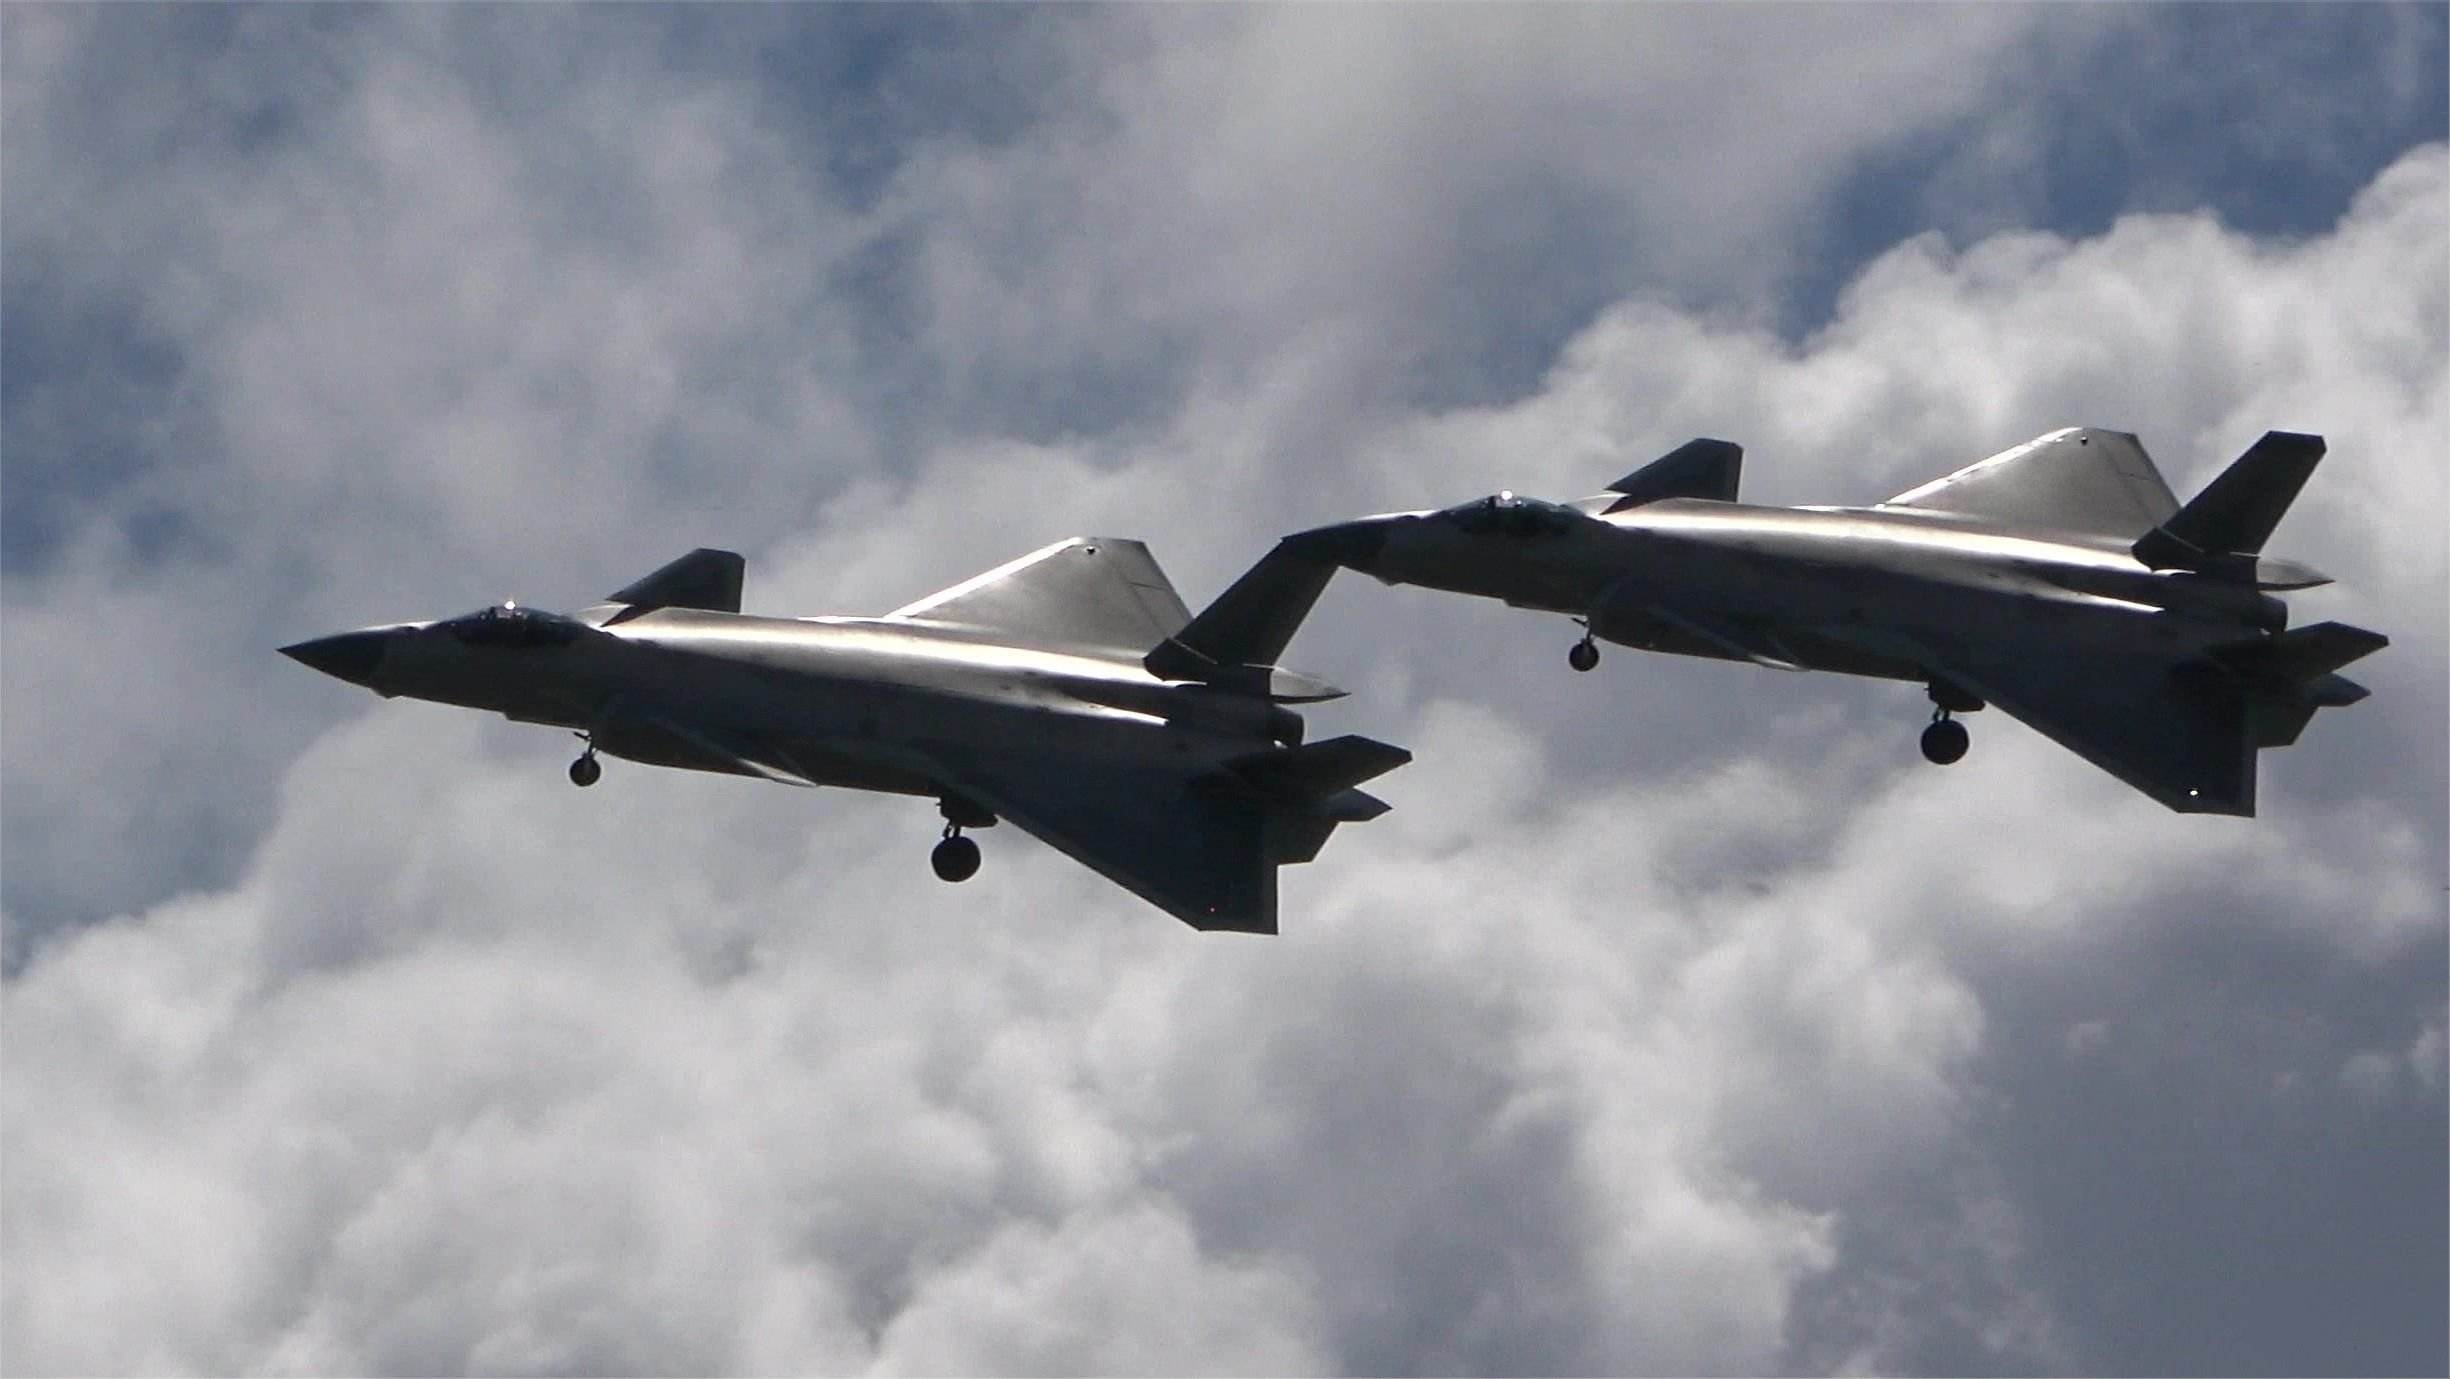J20: (274, 535, 1413, 937), (1279, 425, 2391, 821)
